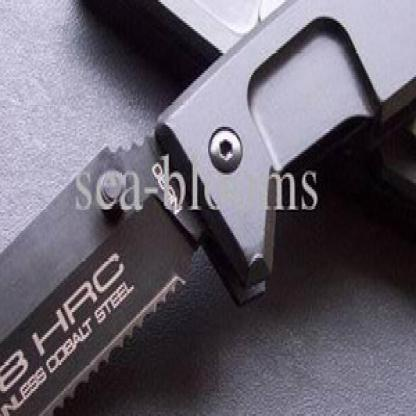knife: (0, 118, 251, 414)
